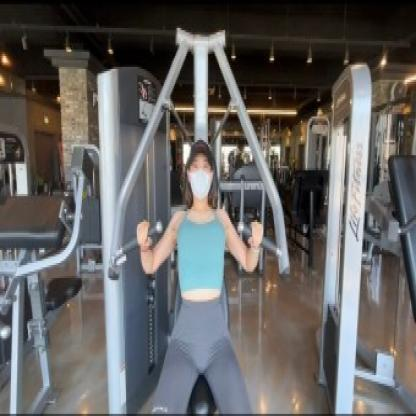chest fly machine: (80, 0, 292, 416)
